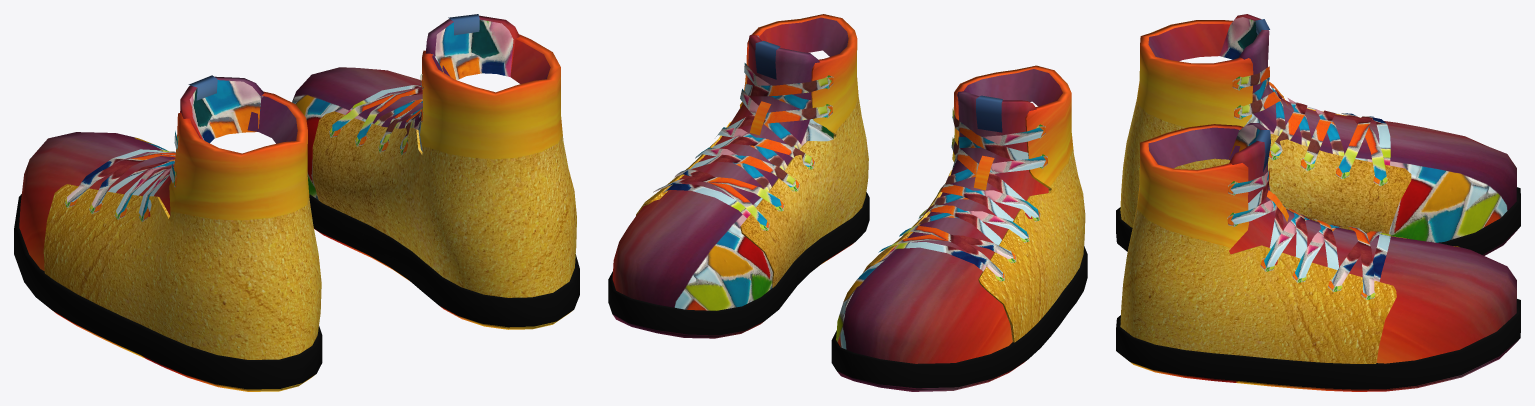
The model's file is Stylish_Shoes.gltf.
The picture shows the model from 3 angles, left to right: view 1: azimuth 30°, elevation 25°; view 2: azimuth 150°, elevation 25°; view 3: azimuth 270°, elevation 25°; orthographic projection. The views are drawn at different scales.
Visible parts, largest first — view 1: Stylish_Shoes; view 2: Stylish_Shoes; view 3: Stylish_Shoes.
Boxes of the visible parts, x1,y1,x2,y2 form: Stylish_Shoes: (14,14,579,391); Stylish_Shoes: (608,14,1087,391); Stylish_Shoes: (1116,14,1520,391).
Size of the model in its own units: 0.1948 by 0.1013 by 0.1713.
Materials: 1 (1 with a texture image).
